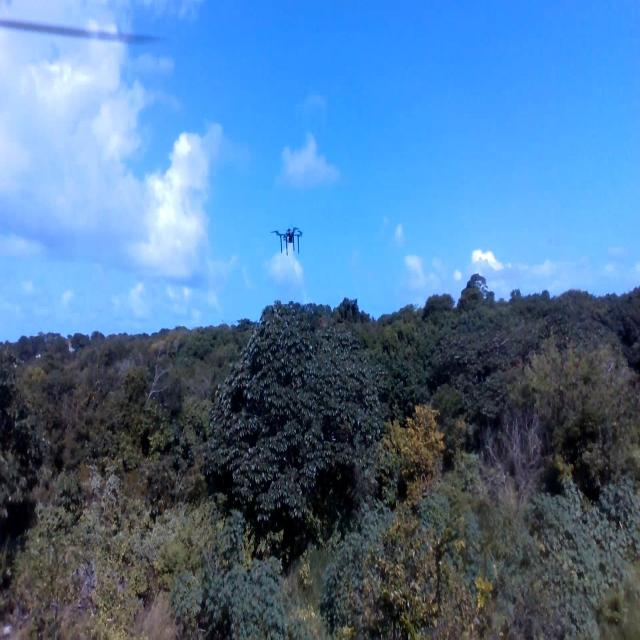-uav-: (264, 204, 314, 266)
